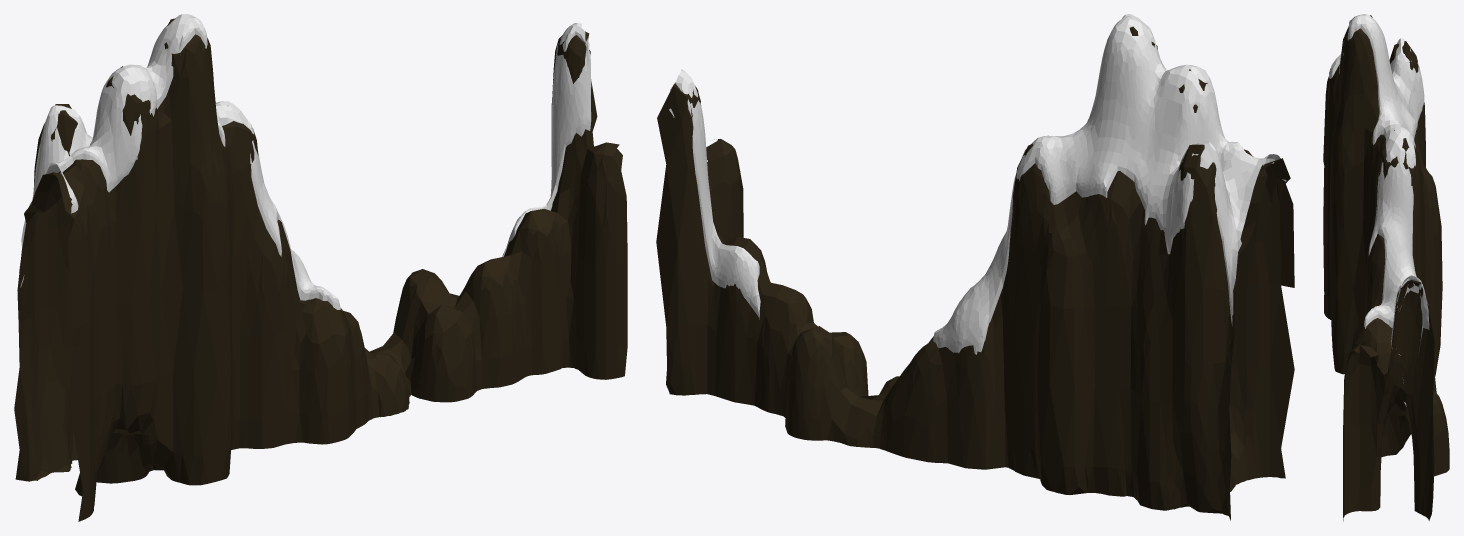
The model's file is Mtn_Wall_N1_M.fbx.
The picture shows the model from 3 angles, left to right: view 1: azimuth 30°, elevation 25°; view 2: azimuth 150°, elevation 25°; view 3: azimuth 270°, elevation 25°; orthographic projection. The views are drawn at different scales.
Visible parts, largest first — view 1: Mtn_Wall_N1_M; view 2: Mtn_Wall_N1_M; view 3: Mtn_Wall_N1_M.
Part boxes in pixels (x1,y1,x2,y2): Mtn_Wall_N1_M: (14, 14, 627, 521); Mtn_Wall_N1_M: (656, 14, 1294, 520); Mtn_Wall_N1_M: (1323, 14, 1449, 521).
Bounding box in the file's own units: 24212 × 18174 × 5989.
